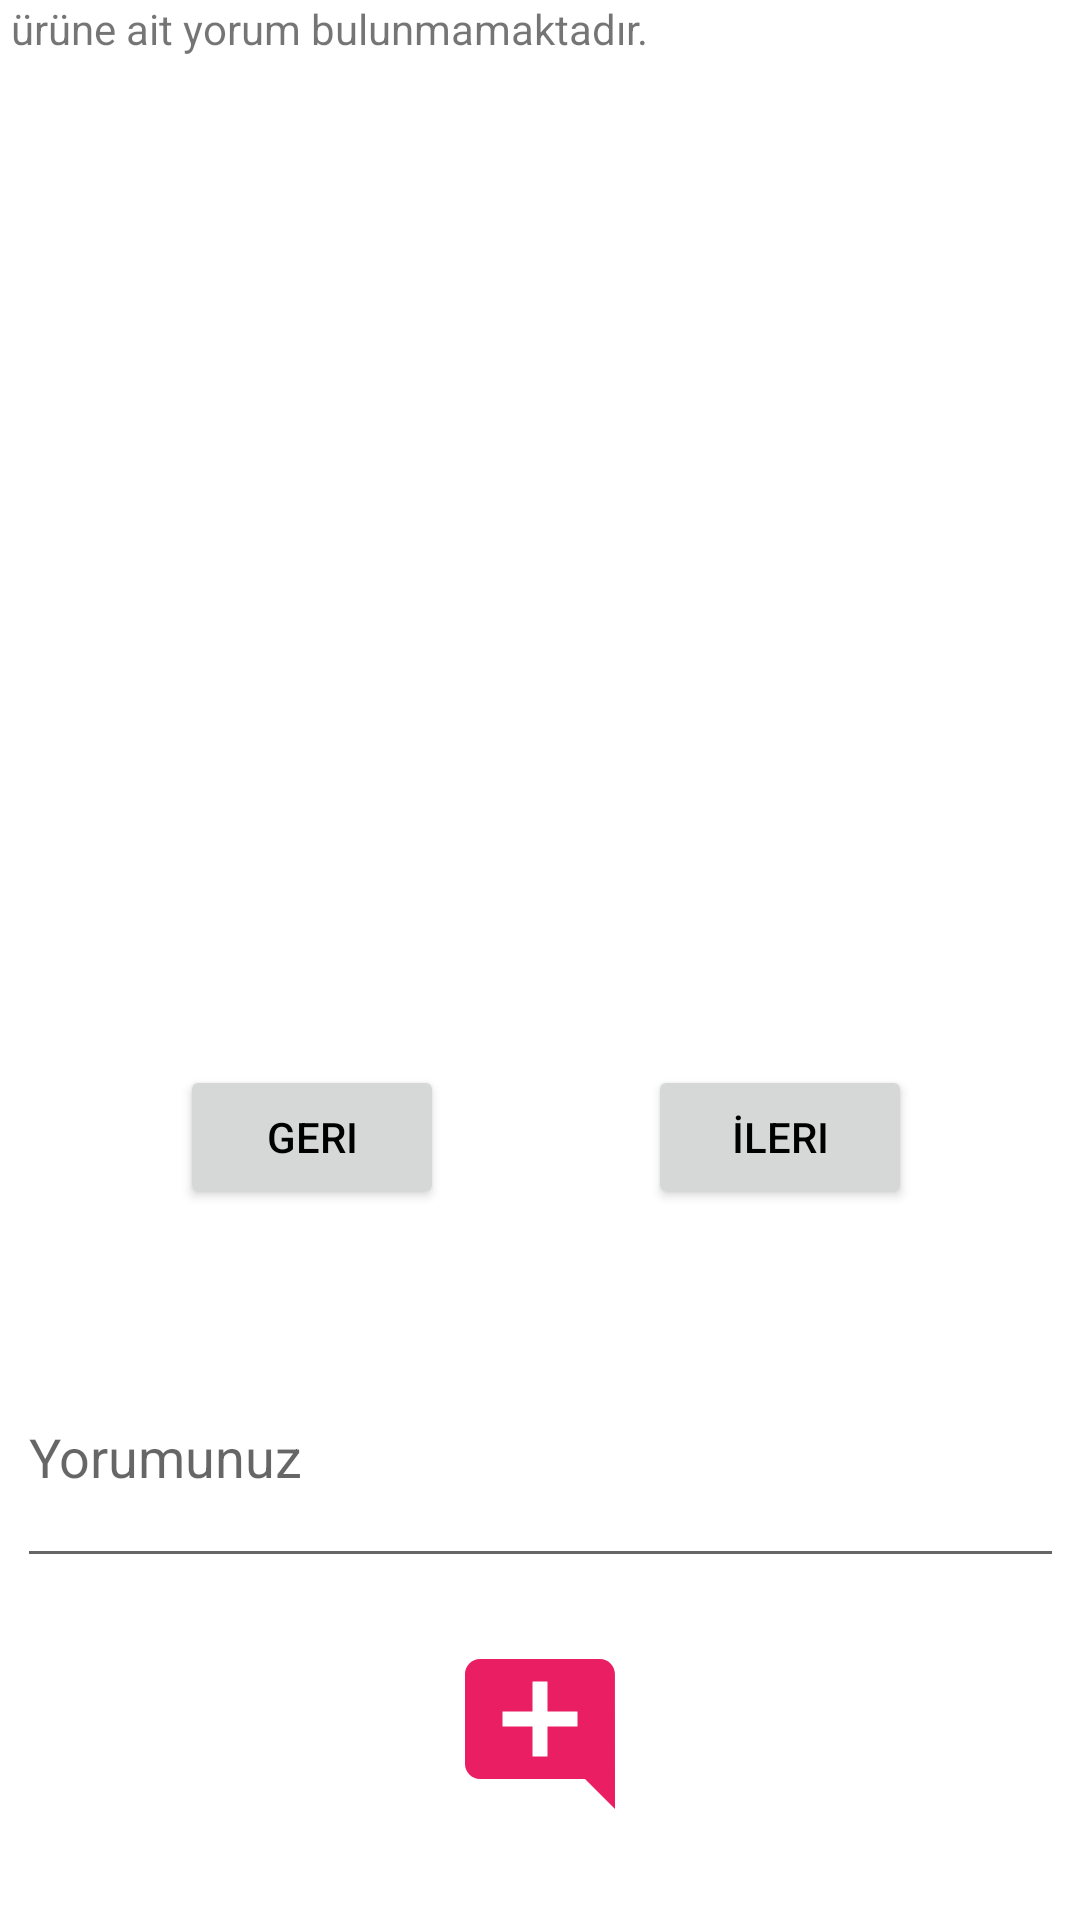

Icons on this 1080px×1920px Android screen, each with the point to tap as [x,y]:
add comment: [540,1734]
